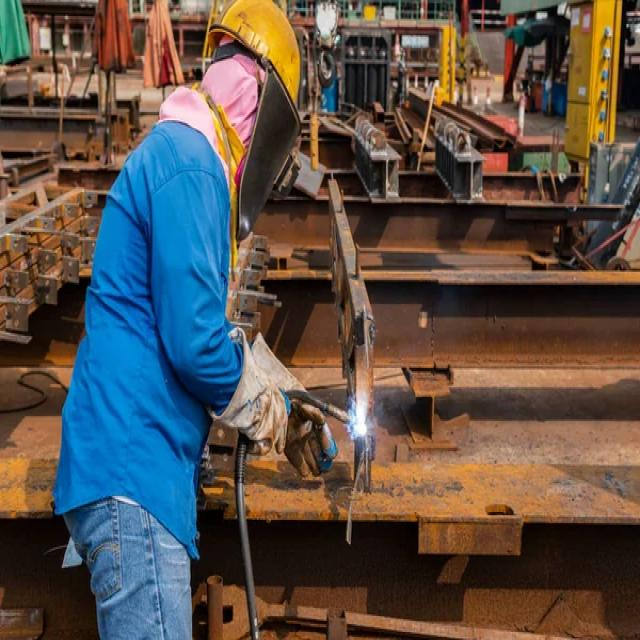welding: (351, 403, 369, 439)
